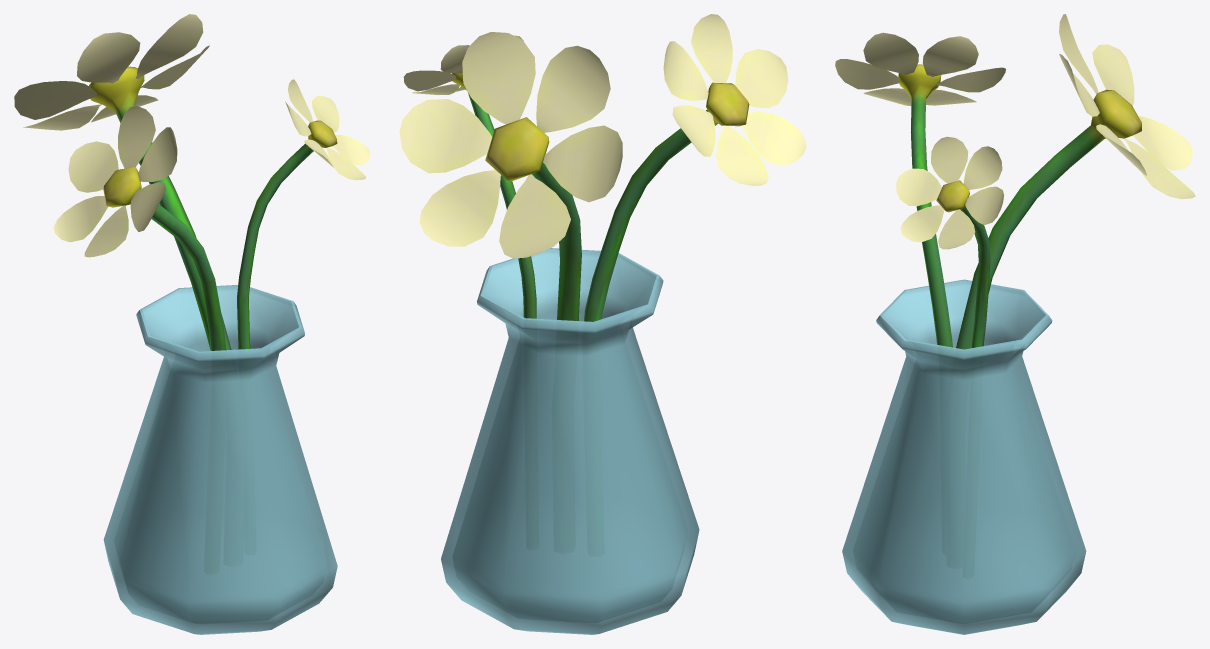
File: Flowers.fbx
3 views of the same model, side by side, from view 1: azimuth 30°, elevation 25°; view 2: azimuth 150°, elevation 25°; view 3: azimuth 270°, elevation 25° (orthographic). The views are drawn at different scales.
Parts seen in each view (by area): view 1: Florero, Tallo.001, Tallo.002, Tallo; view 2: Florero, Tallo.002, Tallo.001, Tallo; view 3: Florero, Tallo.002, Tallo.001, Tallo.
Part boxes in pixels (x1=…): Florero: x1=103, y1=285, x2=337, y2=634; Tallo.001: x1=53, y1=106, x2=226, y2=350; Tallo.002: x1=14, y1=14, x2=231, y2=350; Tallo: x1=237, y1=79, x2=370, y2=349; Florero: x1=441, y1=248, x2=699, y2=634; Tallo.002: x1=399, y1=32, x2=622, y2=320; Tallo.001: x1=584, y1=14, x2=806, y2=321; Tallo: x1=403, y1=35, x2=536, y2=318; Florero: x1=842, y1=279, x2=1086, y2=634; Tallo.002: x1=956, y1=14, x2=1195, y2=349; Tallo.001: x1=835, y1=32, x2=1005, y2=347; Tallo: x1=896, y1=136, x2=1003, y2=347.
Size of the model in its own units: 49.16 by 81.75 by 48.19.
